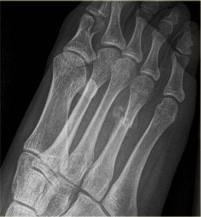fractured: (118, 114, 136, 131)
